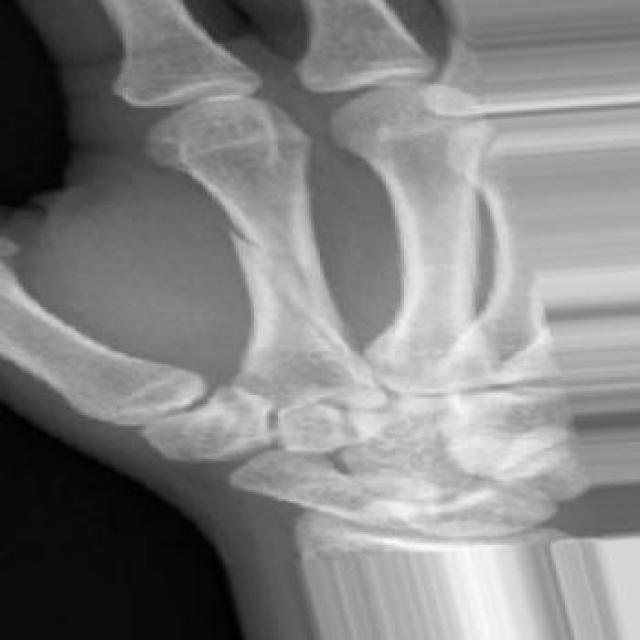Fracture: (207, 216, 366, 349)
